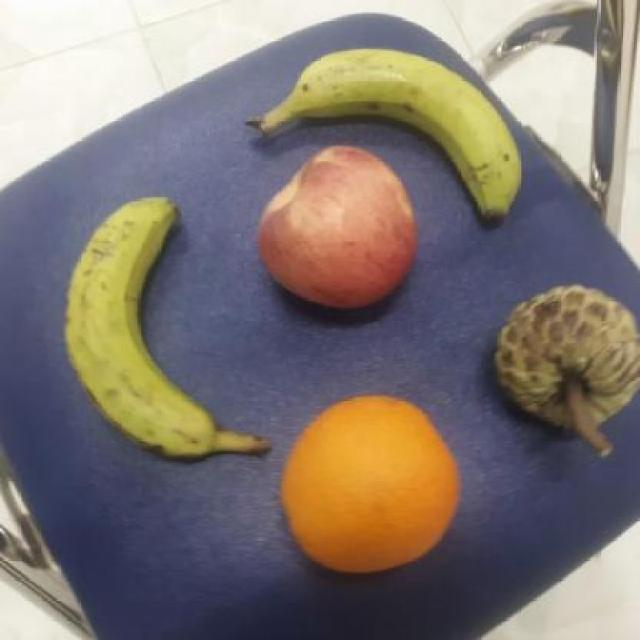apple: (255, 142, 420, 326)
banana: (51, 185, 238, 473), (249, 40, 537, 215)
oren: (278, 391, 460, 575)
sugar apple: (492, 284, 639, 458)
